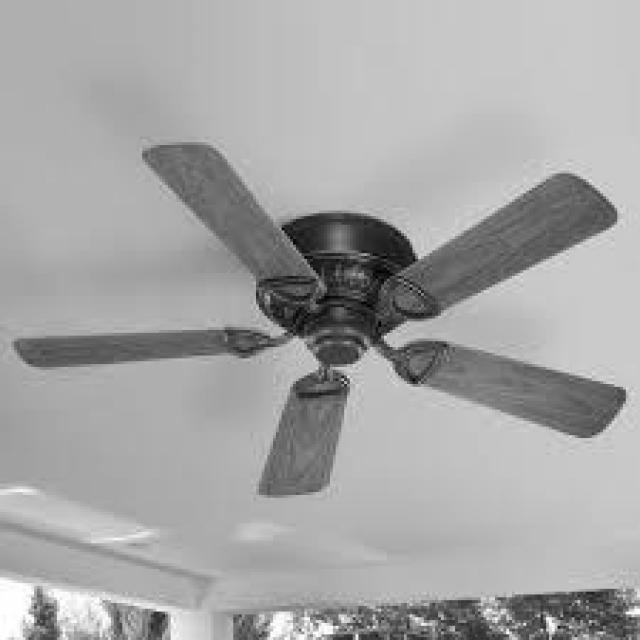fan: (11, 136, 626, 498)
